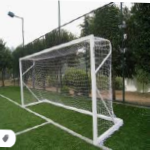goals: (18, 33, 122, 145)
